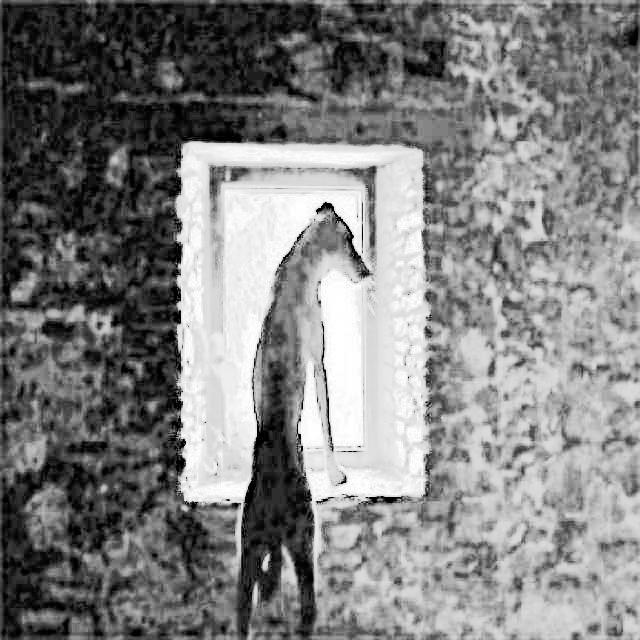Dog: (231, 194, 375, 640)
